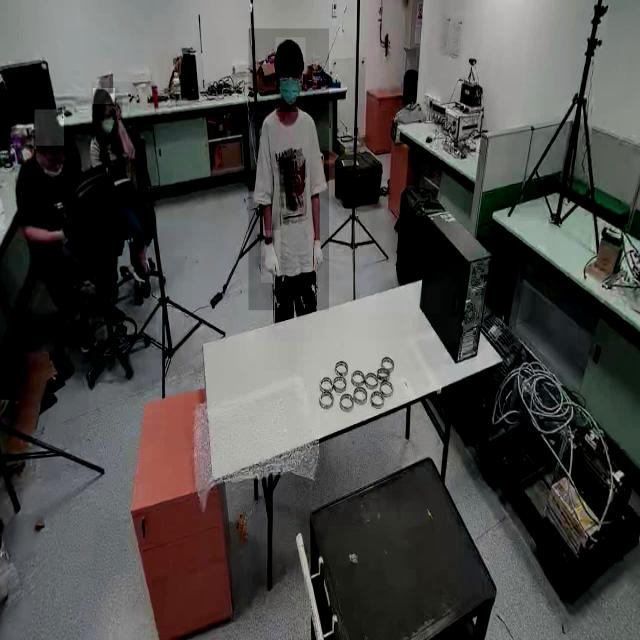face_mask: (276, 63, 300, 113), (99, 106, 121, 138)
hand_glove: (260, 230, 280, 284), (308, 235, 324, 289)
hand_noglove: (112, 98, 122, 121)
head_nohelmet: (34, 109, 64, 147), (275, 37, 305, 63), (93, 88, 115, 105)
person: (248, 29, 329, 311), (8, 98, 80, 377), (91, 82, 156, 324)
